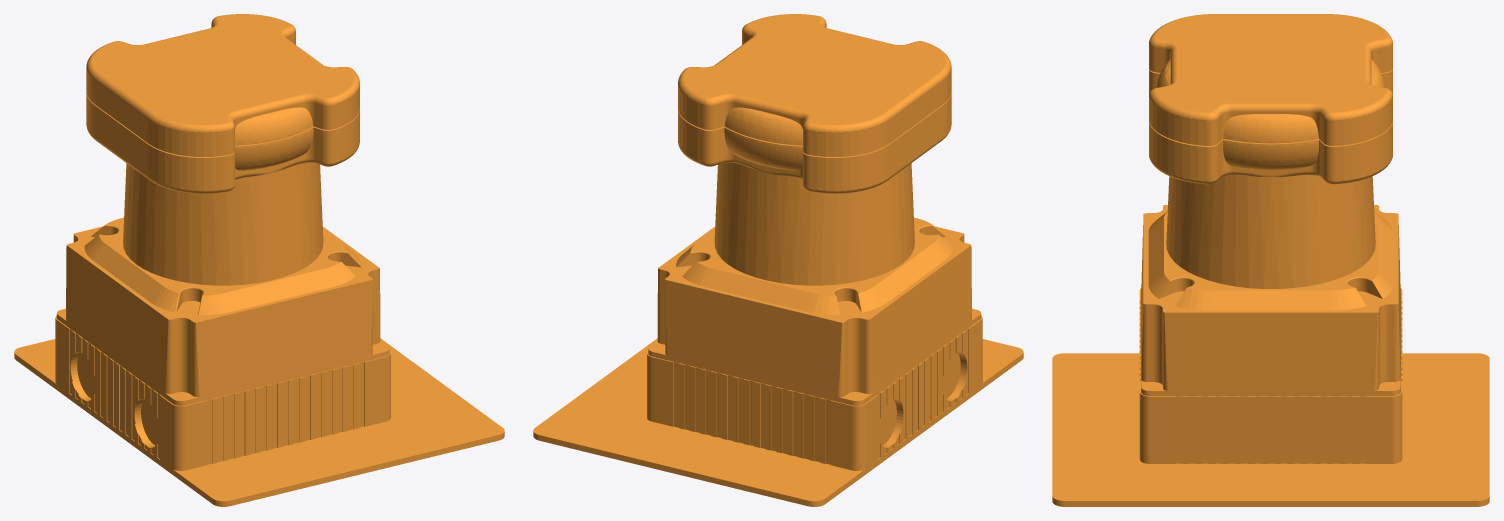
The model's file is front_lrf.dae.
3 views of the same model, side by side, from view 1: azimuth 30°, elevation 25°; view 2: azimuth 150°, elevation 25°; view 3: azimuth 270°, elevation 25° (orthographic). The views are drawn at different scales.
Parts seen in each view (by area): view 1: 前方LRF; view 2: 前方LRF; view 3: 前方LRF.
Part boxes in pixels (x1=…): 前方LRF: x1=14, y1=14, x2=504, y2=506; 前方LRF: x1=533, y1=14, x2=1023, y2=506; 前方LRF: x1=1052, y1=14, x2=1489, y2=506.
Size of the model in its own units: 80 by 100 by 88.55.
